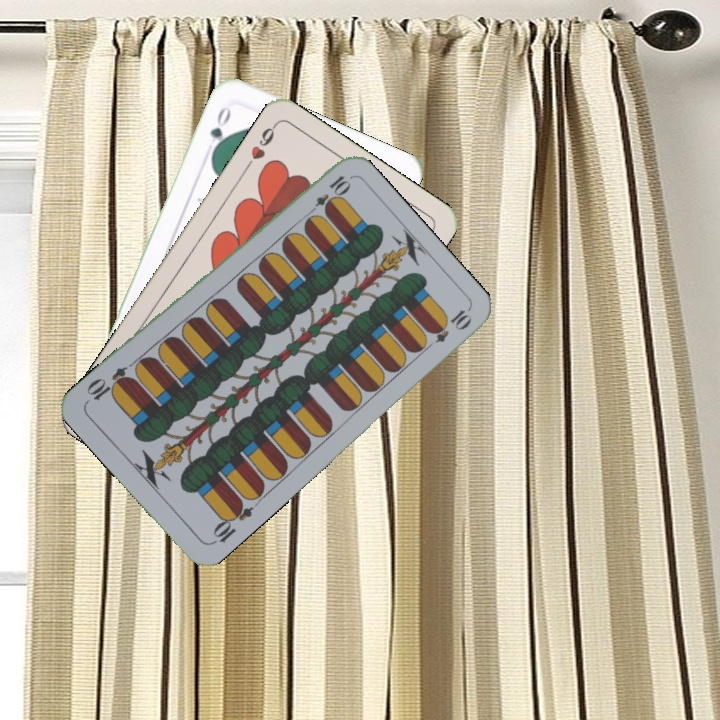E10: (207, 496, 256, 547), (303, 171, 352, 220)
GO: (206, 102, 234, 159)
H9: (241, 119, 280, 172)
